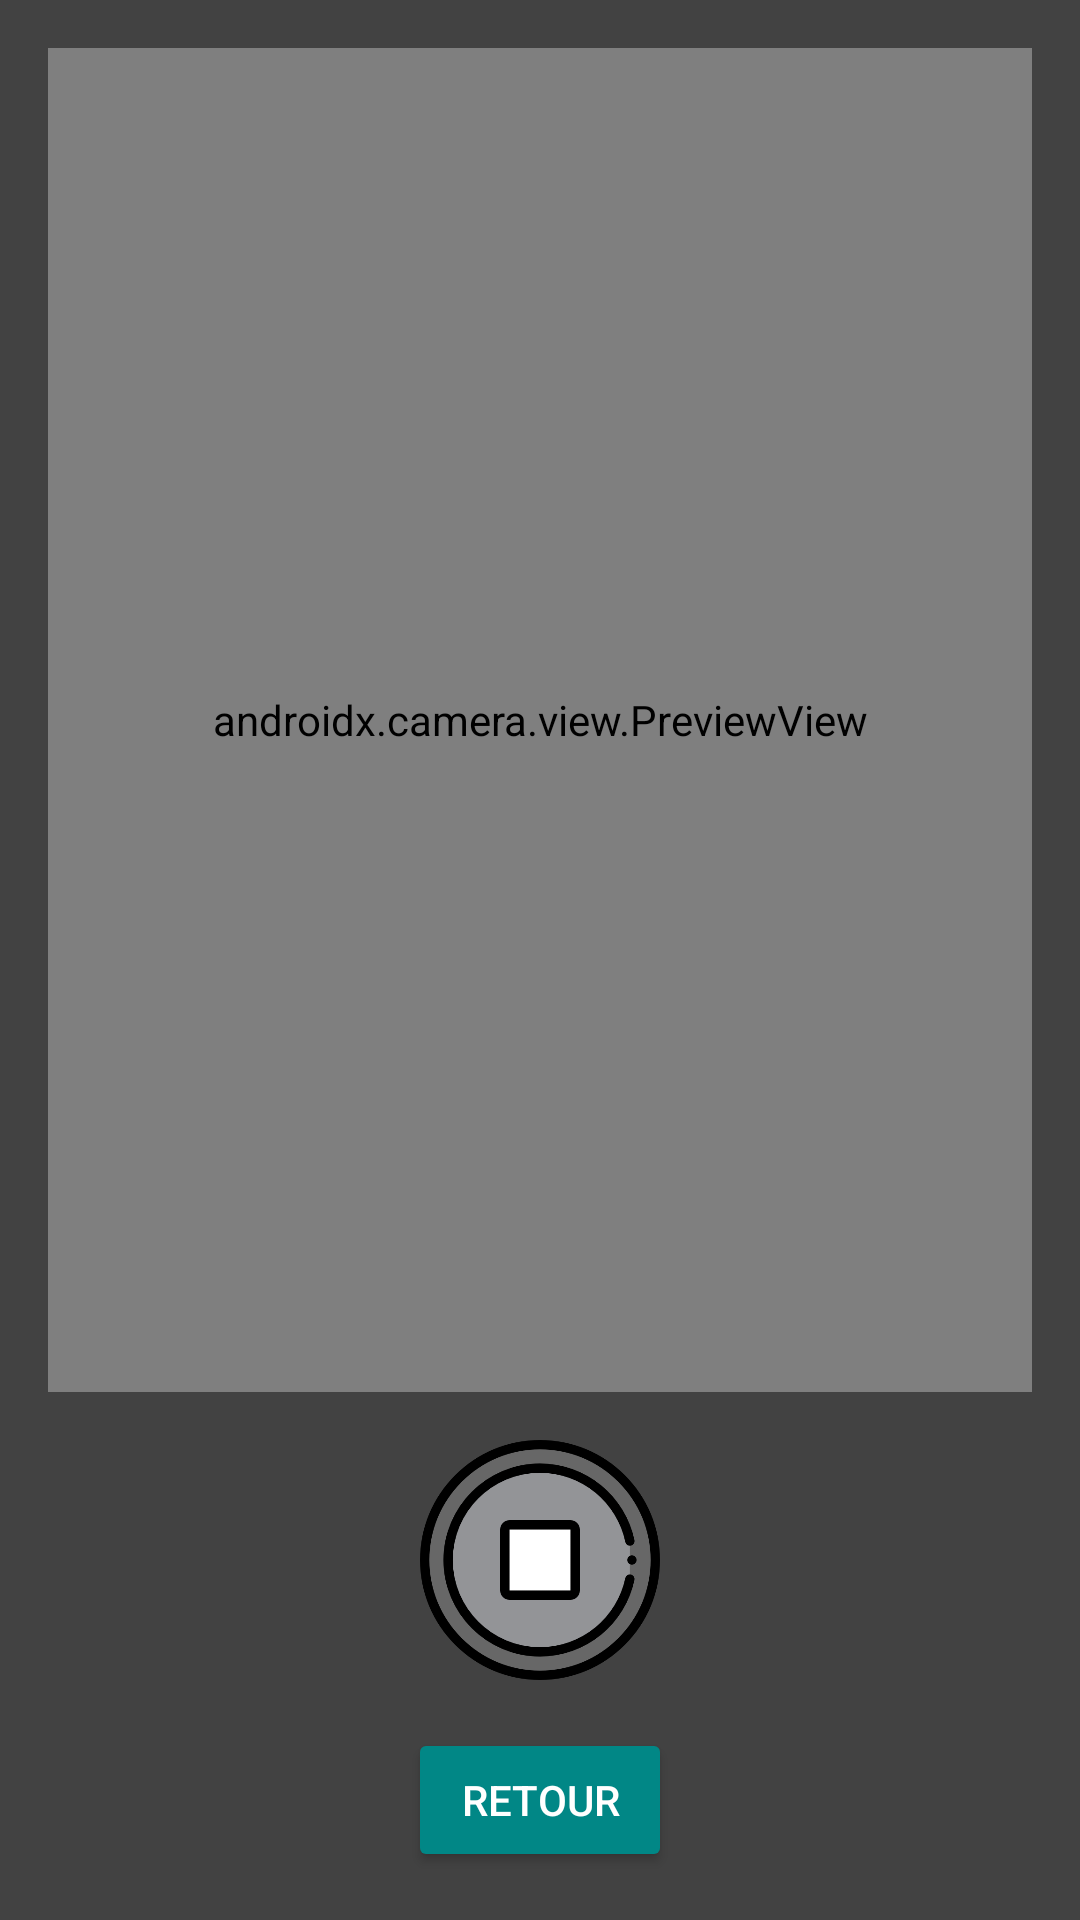

Where to tap for icons on this 1080x1920 app screen, as (x=x, y=y):
stop: (x=540, y=1560)
